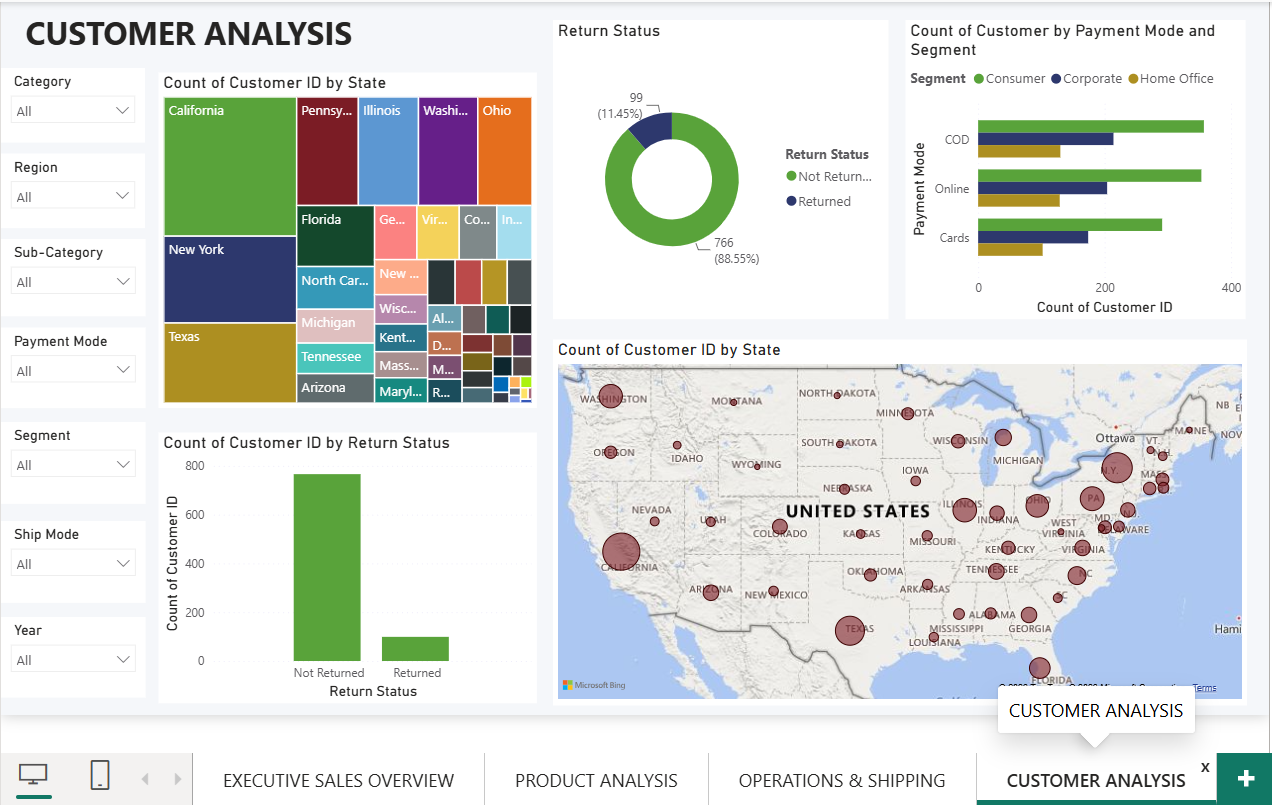

The page's visual inventory and layout, read from the dashboard file:
{"tool":"powerbi","page":{"name":"CUSTOMER ANALYSIS","canvas":[1280,720],"ordinal":3},"visuals":[{"type":"columnChart","fields":{"Y":["Count(SuperStore_Sales_Dataset (2).Customer ID)"],"Category":["SuperStore_Sales_Dataset (2).Return Status"]},"box":[158.3,435,381.7,273.3],"z":0},{"type":"donutChart","title":"Return Status","fields":{"Category":["SuperStore_Sales_Dataset (2).Return Status"],"Y":["Count(SuperStore_Sales_Dataset (2).Customer ID)"]},"box":[556.7,18.3,338.3,301.7],"z":1000},{"type":"treemap","fields":{"Group":["SuperStore_Sales_Dataset (2).State"],"Values":["Count(SuperStore_Sales_Dataset (2).Customer ID)"]},"box":[158.3,71.7,381.7,338.3],"z":2000},{"type":"clusteredBarChart","title":"Count of Customer by Payment Mode and Segment","fields":{"Category":["SuperStore_Sales_Dataset (2).Payment Mode"],"Series":["SuperStore_Sales_Dataset (2).Segment"],"Y":["Count(SuperStore_Sales_Dataset (2).Customer ID)"]},"box":[913.3,18.3,343.3,301.7],"z":3000},{"type":"map","fields":{"Category":["SuperStore_Sales_Dataset (2).State"],"Size":["Count(SuperStore_Sales_Dataset (2).Customer ID)"]},"box":[556.7,340,700,368.3],"z":4000},{"type":"textbox","box":[20,3.3,455,68.3],"z":5000},{"type":"slicer","fields":{"Values":["SuperStore_Sales_Dataset (2).Category"]},"box":[0,66.7,145,75],"z":6000},{"type":"slicer","fields":{"Values":["SuperStore_Sales_Dataset (2).Region"]},"box":[0,153.3,145,75],"z":7000},{"type":"slicer","fields":{"Values":["SuperStore_Sales_Dataset (2).Sub-Category"]},"box":[0,238.6,145.8,77.9],"z":8000},{"type":"slicer","fields":{"Values":["SuperStore_Sales_Dataset (2).Payment Mode"]},"box":[0,328,145.8,81.2],"z":9000},{"type":"slicer","fields":{"Values":["SuperStore_Sales_Dataset (2).Segment"]},"box":[0,424.1,145.8,82.8],"z":10000},{"type":"slicer","fields":{"Values":["SuperStore_Sales_Dataset (2).Ship Mode"]},"box":[0,523.5,145.8,82.8],"z":11000},{"type":"slicer","fields":{"Values":["Calendar.Year"]},"box":[0,621.2,145.8,81.2],"z":12000}]}

Visuals, with their boxes on the page's 1280x720 design canvas (x1, y1, x2, y2). These are canvas units, not pixel positions in the 1272x805 screenshot, which may show the page scaled, cropped or inside an application window:
columnChart - Count(SuperStore_Sales_Dataset (2).Customer ID) x SuperStore_Sales_Dataset (2).Return Status: Rect(158, 435, 540, 708)
"Return Status" donutChart: Rect(557, 18, 895, 320)
treemap - SuperStore_Sales_Dataset (2).State x Count(SuperStore_Sales_Dataset (2).Customer ID): Rect(158, 72, 540, 410)
"Count of Customer by Payment Mode and Segment" clusteredBarChart: Rect(913, 18, 1257, 320)
map - SuperStore_Sales_Dataset (2).State x Count(SuperStore_Sales_Dataset (2).Customer ID): Rect(557, 340, 1257, 708)
textbox: Rect(20, 3, 475, 72)
slicer - SuperStore_Sales_Dataset (2).Category: Rect(0, 67, 145, 142)
slicer - SuperStore_Sales_Dataset (2).Region: Rect(0, 153, 145, 228)
slicer - SuperStore_Sales_Dataset (2).Sub-Category: Rect(0, 239, 146, 316)
slicer - SuperStore_Sales_Dataset (2).Payment Mode: Rect(0, 328, 146, 409)
slicer - SuperStore_Sales_Dataset (2).Segment: Rect(0, 424, 146, 507)
slicer - SuperStore_Sales_Dataset (2).Ship Mode: Rect(0, 524, 146, 606)
slicer - Calendar.Year: Rect(0, 621, 146, 702)
